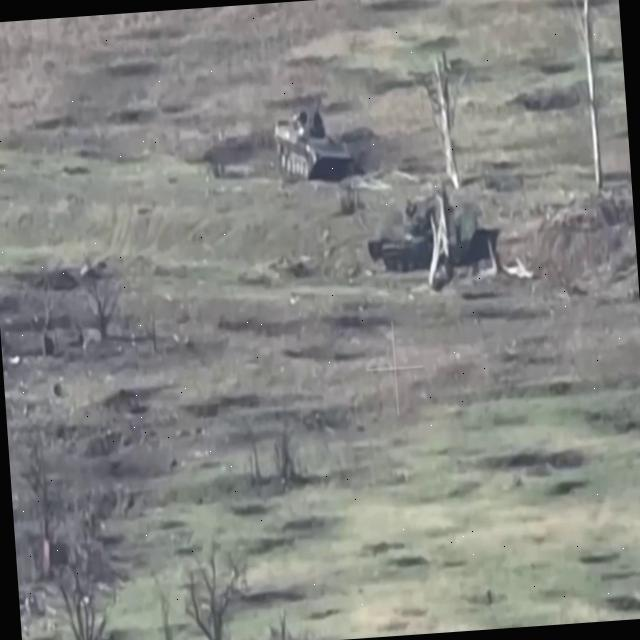AIFV: (271, 107, 356, 187)
MBT: (363, 186, 506, 280)
